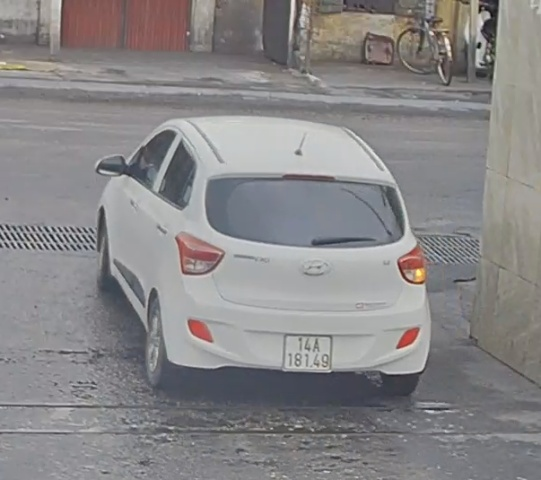vehicle plate: (277, 328, 338, 376)
